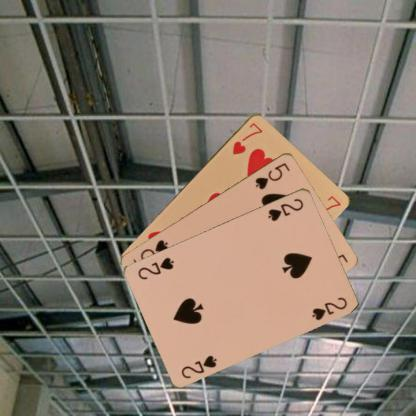2s: (178, 352, 219, 379), (265, 196, 305, 223)
5s: (253, 160, 291, 190)
7h: (229, 119, 264, 156)
